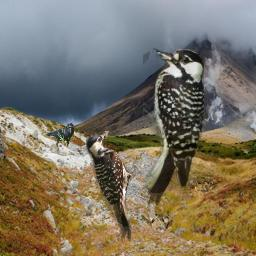Crow: (43, 123, 74, 148)
Woodpecker: (143, 47, 204, 212), (86, 131, 142, 242)
